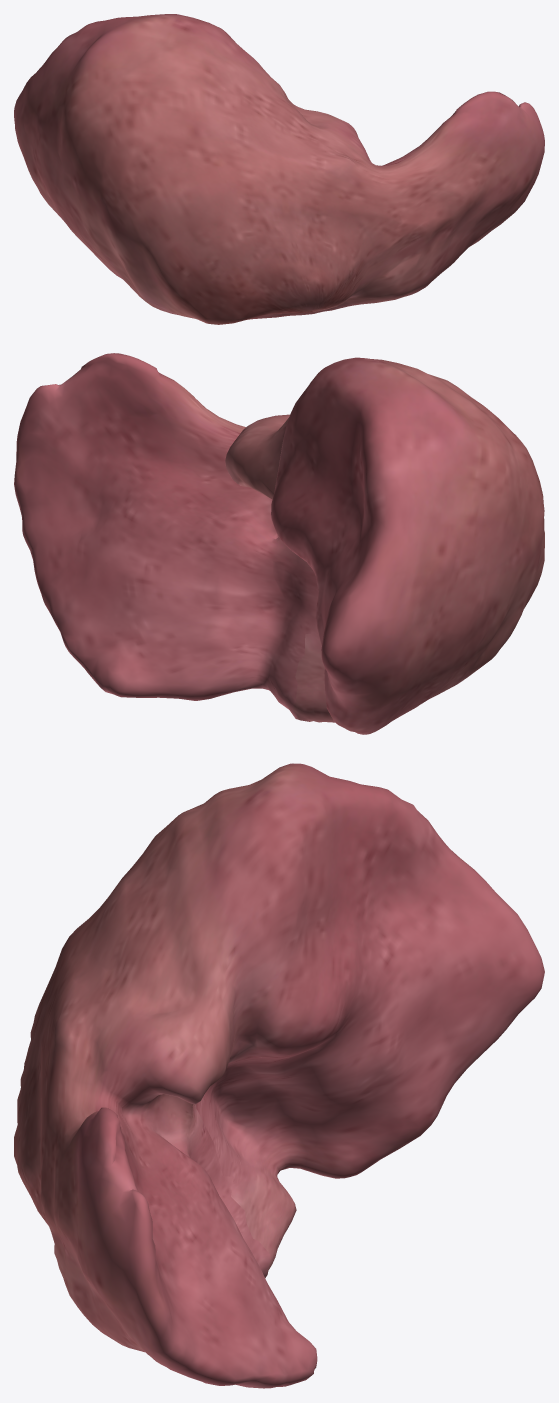
File: liver2.glb
3 renders of one model, top to bottom at view 1: azimuth 30°, elevation 25°; view 2: azimuth 150°, elevation 25°; view 3: azimuth 270°, elevation 25°, orthographic. The views are drawn at different scales.
Parts seen in each view (by area): view 1: liver_asc.ply; view 2: liver_asc.ply; view 3: liver_asc.ply.
Part boxes in pixels (bbox=[...]): liver_asc.ply: bbox=[14, 14, 544, 324]; liver_asc.ply: bbox=[14, 353, 544, 734]; liver_asc.ply: bbox=[14, 763, 544, 1388].
Size of the model in its own units: 220 by 148 by 158.
1 material, 1 textured.
